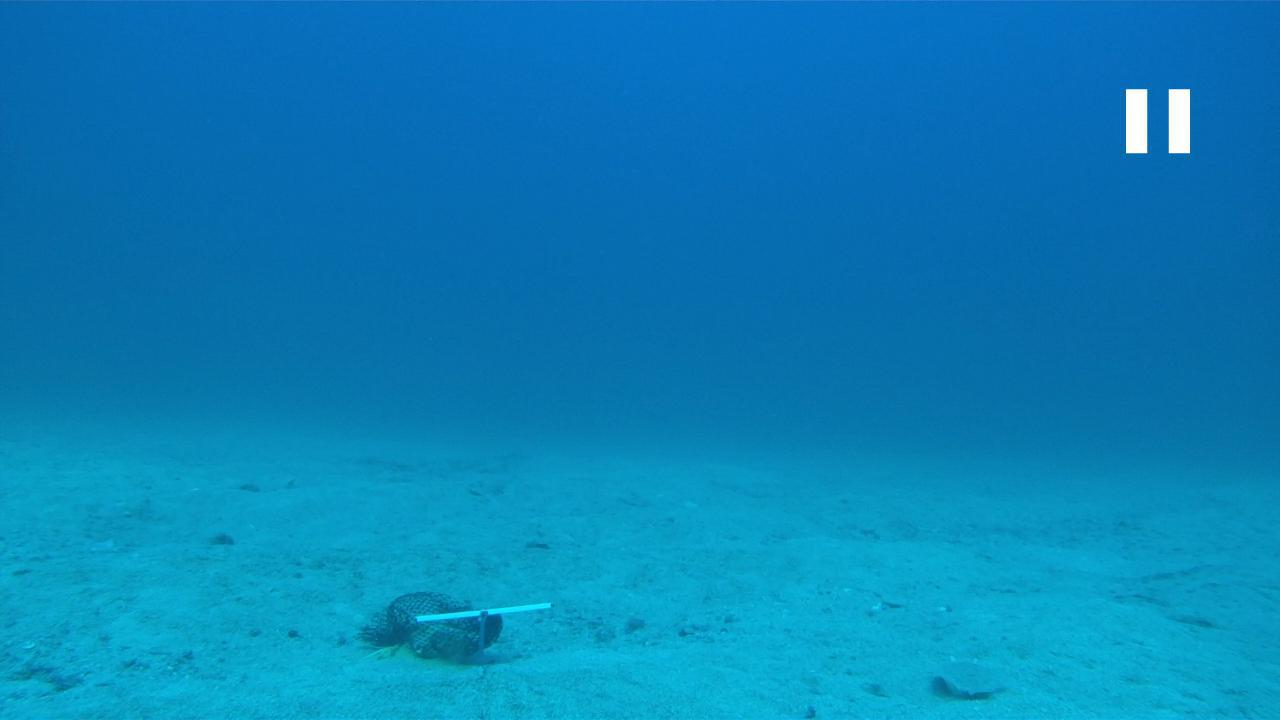bothus: (926, 657, 1008, 704)
